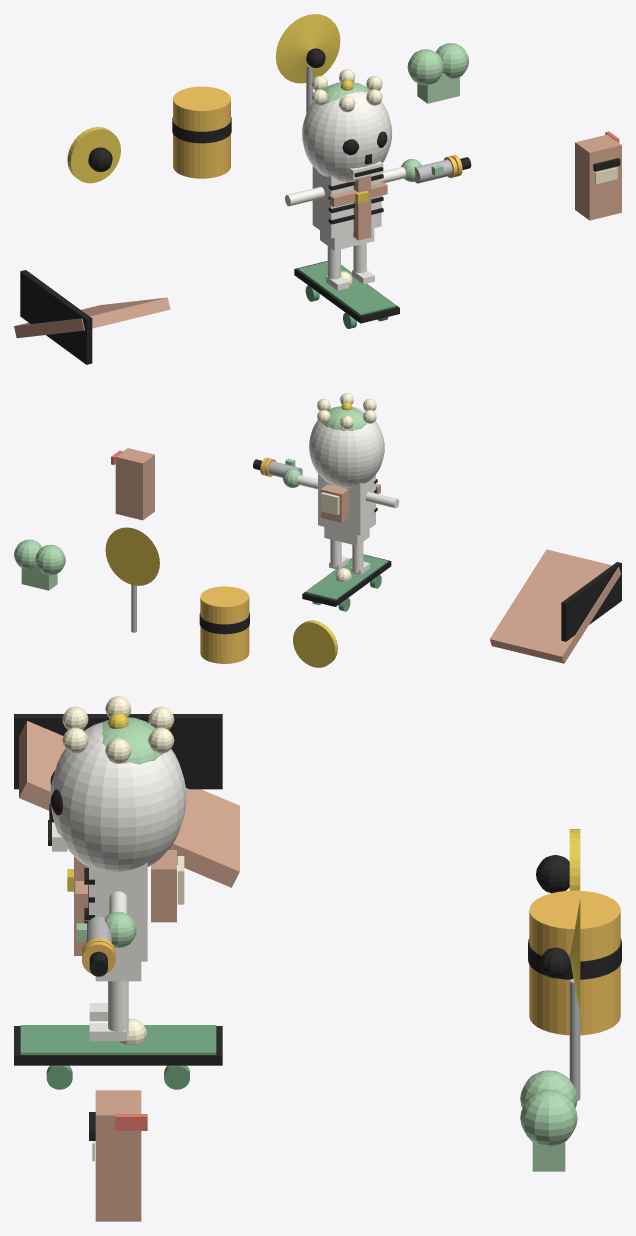
File: skull_pepe_kit.glb
3 renders of one model, top to bottom at view 1: azimuth 30°, elevation 25°; view 2: azimuth 150°, elevation 25°; view 3: azimuth 270°, elevation 25°, orthographic. The views are drawn at different scales.
Visible parts, largest first — view 1: Skull, HazardBarrel, Mailbox, RampSide, CautionSign, Ramp, Ribcage.001, Token, DeckTop, HeartL, StrapV.001, Deck (+8 smaller); view 2: Ramp, Skull, HazardBarrel, Mailbox, CautionSign, RampSide, Ribcage.001, Token, DeckTop, HeartL, Deck, DeliveryBag (+5 smaller); view 3: Skull, HazardBarrel, Ramp, Mailbox, DeckTop, RampSide, Ribcage.001, Deck, HeartR, DeliveryBag, Brain, BarrelStripe (+10 smaller).
Part boxes in pixels (left/top/right/bottom): Skull: left=302, top=92, right=392, bottom=182; HazardBarrel: left=173, top=86, right=230, bottom=178; Mailbox: left=575, top=134, right=621, bottom=220; RampSide: left=20, top=270, right=92, bottom=364; CautionSign: left=275, top=14, right=340, bottom=83; Ramp: left=14, top=297, right=170, bottom=338; Ribcage.001: left=312, top=166, right=381, bottom=238; Token: left=67, top=127, right=120, bottom=183; DeckTop: left=298, top=261, right=396, bottom=315; HeartL: left=407, top=49, right=443, bottom=85; StrapV.001: left=353, top=175, right=371, bottom=240; Deck: left=294, top=261, right=399, bottom=323; Ramp: left=489, top=549, right=620, bottom=663; Skull: left=309, top=406, right=384, bottom=488; HazardBarrel: left=200, top=586, right=249, bottom=663; Mailbox: left=115, top=448, right=154, bottom=520; CautionSign: left=105, top=527, right=159, bottom=585; RampSide: left=561, top=562, right=621, bottom=641; Ribcage.001: left=318, top=474, right=375, bottom=535; Token: left=293, top=620, right=337, bottom=667; DeckTop: left=305, top=555, right=388, bottom=600; HeartL: left=35, top=544, right=65, bottom=575; Deck: left=302, top=554, right=391, bottom=606; DeliveryBag: left=320, top=484, right=348, bottom=522; Skull: left=50, top=722, right=186, bottom=871; HazardBarrel: left=529, top=890, right=620, bottom=1035; Ramp: left=19, top=721, right=239, bottom=887; Mailbox: left=95, top=1090, right=141, bottom=1221; DeckTop: left=20, top=1025, right=216, bottom=1054; RampSide: left=14, top=714, right=222, bottom=789; Ribcage.001: left=89, top=862, right=147, bottom=961; Deck: left=14, top=1026, right=222, bottom=1065; HeartR: left=520, top=1089, right=577, bottom=1146; DeliveryBag: left=151, top=850, right=176, bottom=922; Brain: left=101, top=717, right=163, bottom=764; BarrelStripe: left=528, top=938, right=621, bottom=979.
Bounding box in the file's own units: 7.88 × 3.06 × 4.66.
